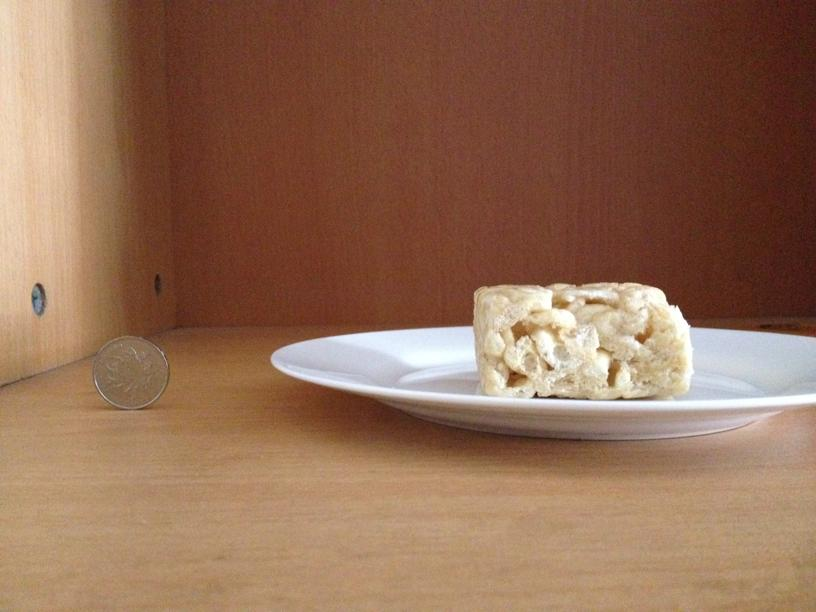coin: (90, 336, 169, 407)
sachima: (467, 275, 694, 400)
